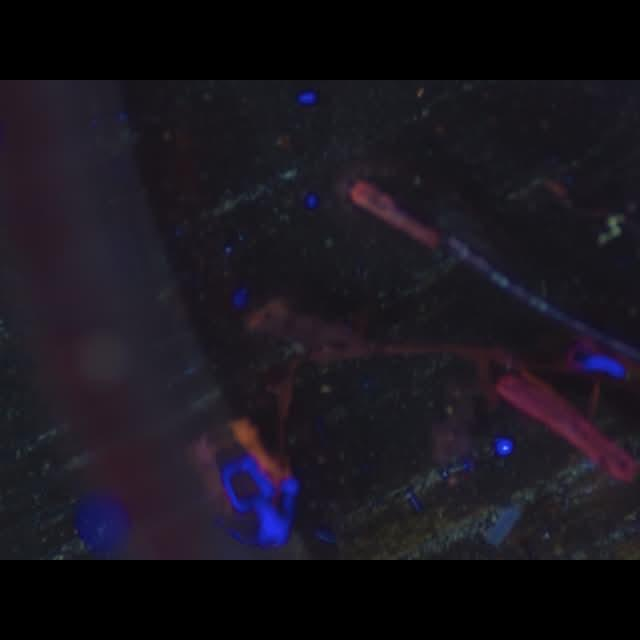Fibre: (596, 213, 626, 247)
